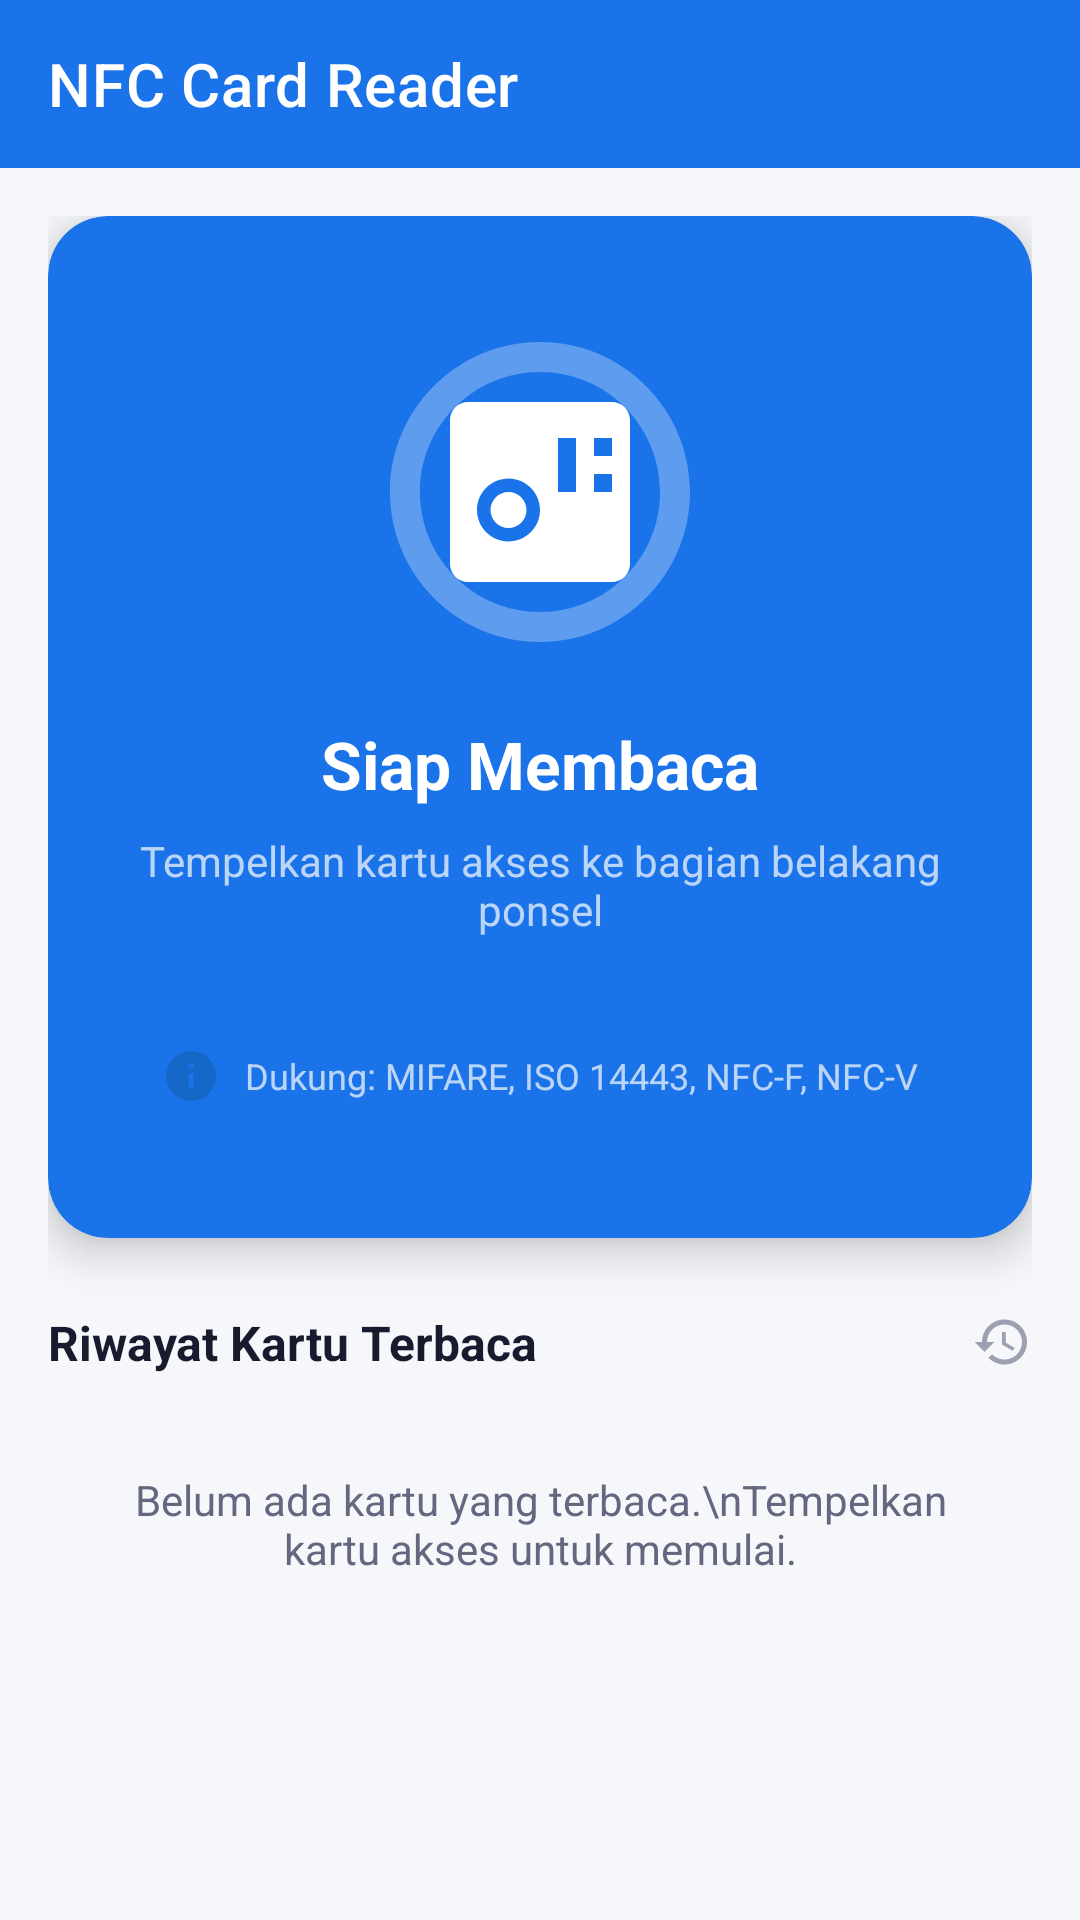

Where to tap for icons on this 1080px×1920px app screen, as (x,y):
history: (1001,1342)
info: (191,1076)
